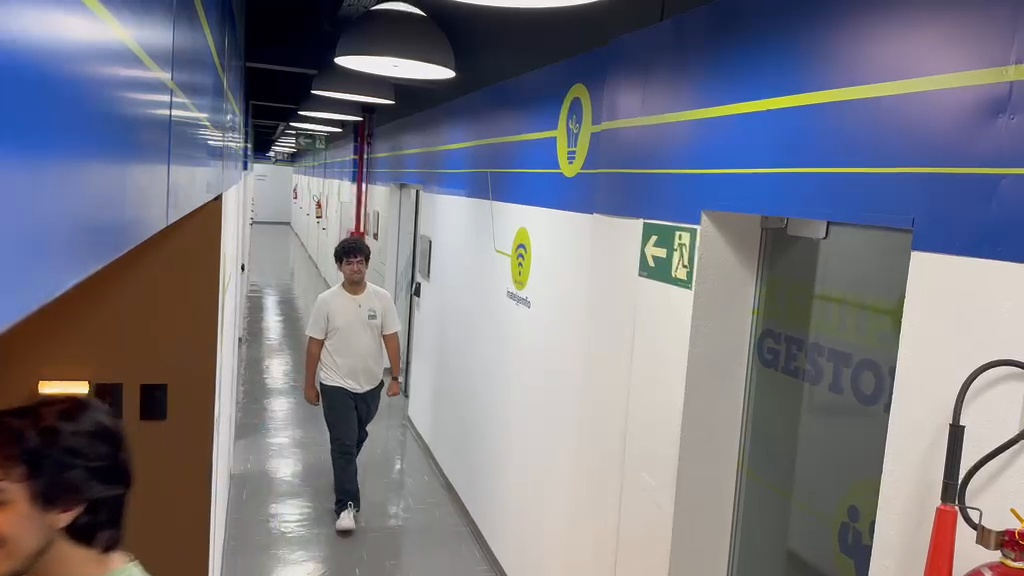person: (303, 235, 402, 533), (0, 397, 147, 572)
